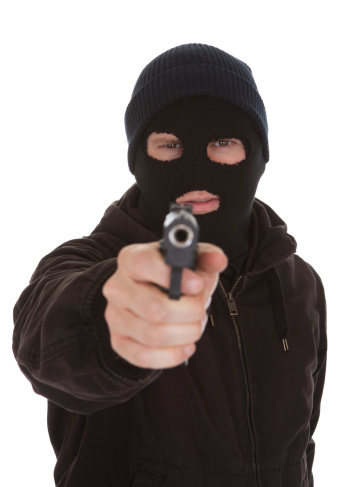thief: (47, 32, 306, 407), (107, 39, 283, 211)
weapon: (150, 204, 213, 305)
